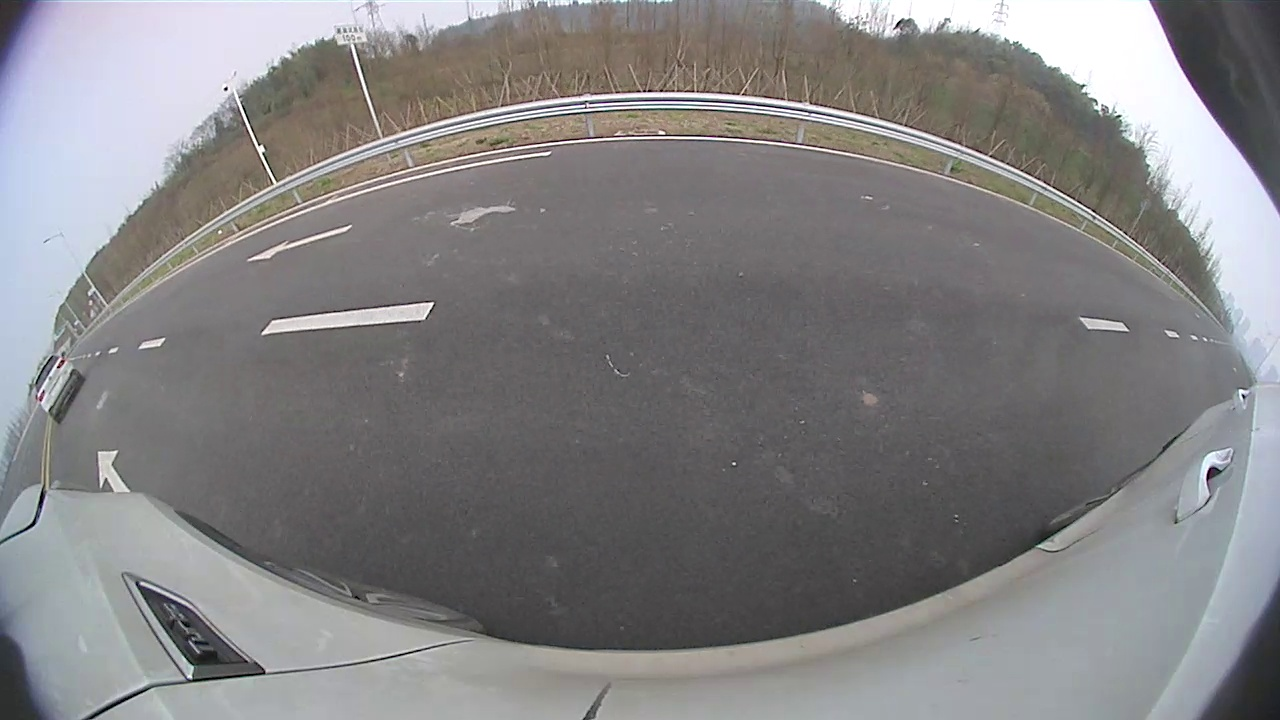car: (32, 353, 86, 425)
